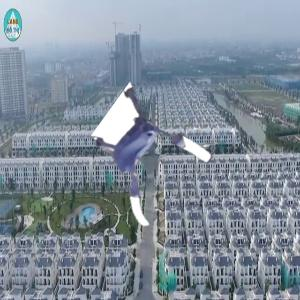drone: (86, 104, 205, 223)
